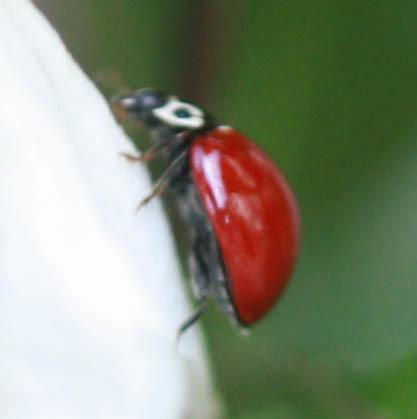ladybug: (108, 67, 304, 345)
